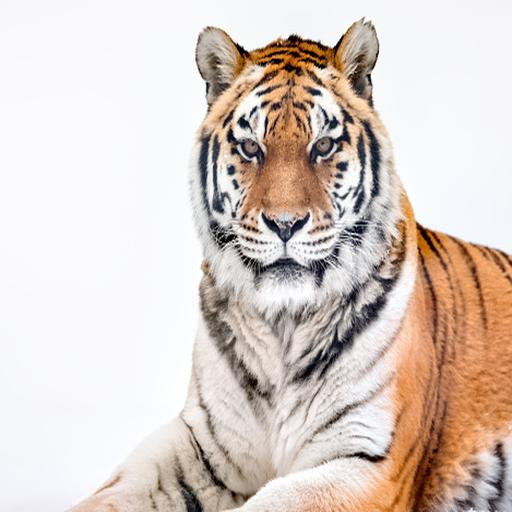Tiger: (48, 14, 512, 512)
